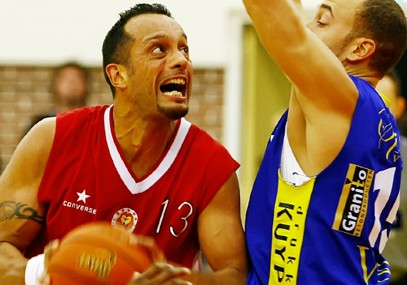basketball: (51, 225, 154, 285)
